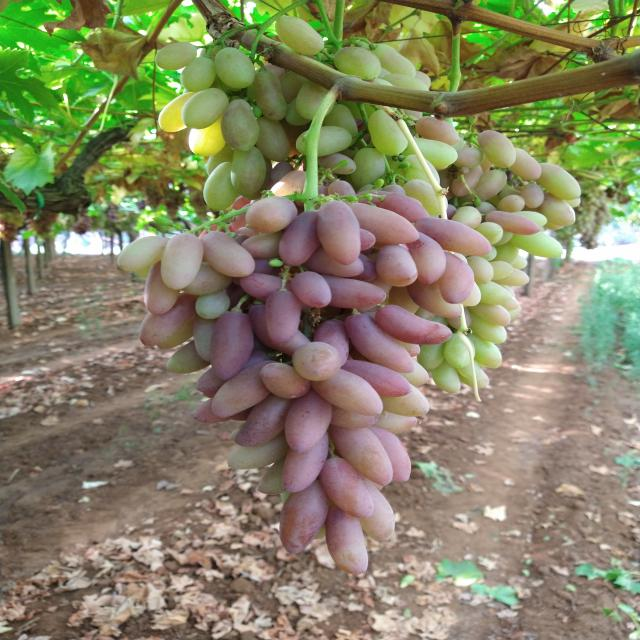grapes: (327, 423, 394, 487), (345, 314, 414, 373), (212, 361, 279, 418), (279, 478, 328, 554), (308, 369, 384, 415), (234, 392, 295, 448), (318, 457, 374, 518), (248, 304, 311, 357), (139, 292, 199, 346), (284, 387, 332, 454), (374, 305, 453, 345), (210, 311, 254, 382), (415, 217, 492, 256), (326, 504, 368, 575), (316, 200, 361, 266), (282, 431, 329, 493), (350, 203, 419, 244), (239, 274, 314, 311), (339, 360, 412, 398), (367, 425, 411, 483), (278, 210, 322, 267), (201, 231, 255, 277), (228, 429, 290, 469), (161, 233, 204, 290), (357, 480, 396, 542), (318, 274, 386, 309), (404, 230, 446, 286), (407, 279, 462, 318), (144, 260, 180, 316), (292, 342, 342, 382), (259, 362, 311, 400), (437, 252, 475, 304), (221, 99, 259, 151), (265, 290, 300, 346), (246, 196, 297, 234), (182, 88, 229, 129), (276, 16, 324, 56), (303, 246, 364, 277), (231, 146, 266, 199), (376, 244, 419, 287), (194, 396, 260, 424), (369, 109, 408, 156), (117, 236, 168, 271), (378, 383, 430, 417), (157, 311, 202, 350), (253, 71, 288, 121), (296, 125, 352, 156), (403, 179, 448, 217), (184, 262, 234, 296), (314, 318, 349, 366), (402, 137, 458, 167), (214, 47, 254, 89), (188, 113, 226, 157), (204, 162, 238, 211), (166, 339, 212, 374), (369, 44, 416, 78), (296, 78, 334, 120), (350, 148, 386, 192), (537, 163, 581, 199), (507, 230, 563, 258), (255, 116, 289, 162), (379, 193, 431, 223), (159, 91, 197, 132), (334, 47, 381, 80), (291, 271, 332, 308), (477, 130, 516, 168), (466, 308, 508, 343), (465, 170, 508, 203), (401, 154, 440, 190), (329, 402, 379, 430), (335, 252, 379, 283), (324, 105, 357, 146), (241, 229, 284, 260), (257, 453, 288, 495), (180, 57, 216, 93), (486, 211, 540, 235), (416, 116, 459, 146), (466, 333, 502, 368), (539, 192, 576, 226), (155, 42, 196, 71), (193, 317, 218, 363), (469, 300, 511, 326), (444, 333, 476, 367), (508, 148, 542, 180), (431, 358, 461, 394), (368, 78, 398, 113), (269, 170, 306, 198), (452, 165, 482, 197), (396, 358, 429, 387), (196, 292, 230, 320), (388, 286, 421, 314), (207, 143, 234, 177), (456, 361, 490, 388), (196, 367, 228, 394), (478, 280, 512, 305), (317, 153, 357, 174), (417, 341, 445, 371), (381, 74, 429, 91), (465, 256, 494, 284), (268, 162, 294, 192), (489, 267, 530, 286), (445, 306, 473, 332), (452, 206, 482, 230), (357, 190, 396, 207), (474, 222, 504, 244), (512, 210, 548, 228), (198, 223, 236, 240), (454, 148, 484, 168), (328, 180, 357, 200), (493, 242, 519, 264), (521, 184, 544, 208), (459, 282, 481, 306), (395, 338, 421, 358), (498, 194, 525, 213), (358, 472, 384, 491), (488, 261, 512, 280), (468, 246, 498, 261), (254, 64, 285, 78), (228, 420, 247, 442), (456, 361, 479, 379), (359, 228, 376, 252), (230, 212, 247, 233), (445, 250, 468, 264), (382, 184, 406, 197), (232, 195, 251, 211), (236, 226, 261, 238), (254, 258, 272, 274), (415, 71, 431, 89), (401, 107, 423, 120), (476, 202, 496, 215), (563, 195, 582, 208), (511, 257, 528, 270), (234, 234, 249, 246), (376, 410, 389, 423), (452, 138, 465, 150), (282, 490, 292, 505), (317, 185, 328, 197), (543, 224, 565, 230), (203, 392, 216, 398), (434, 166, 449, 170)
